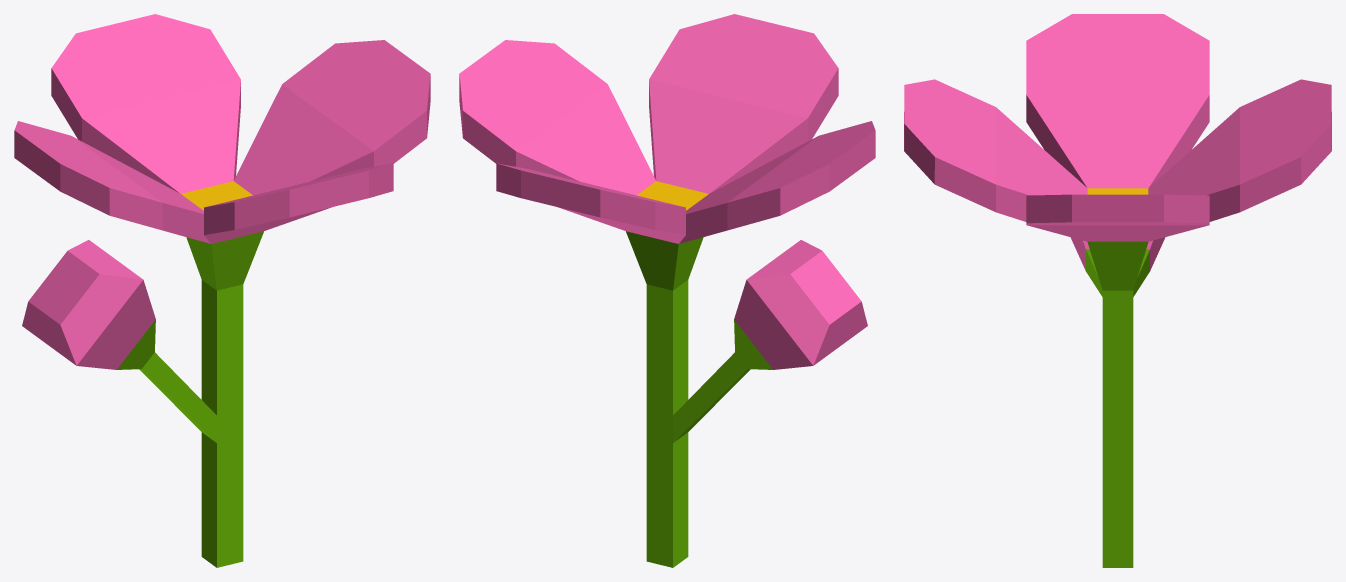
Rendered from Flower_02_Bloom.fbx.
3 renders of one model, left to right at view 1: azimuth 30°, elevation 25°; view 2: azimuth 150°, elevation 25°; view 3: azimuth 270°, elevation 25°, orthographic.
Parts seen in each view (by area): view 1: Flower_02_Bloom; view 2: Flower_02_Bloom; view 3: Flower_02_Bloom.
Part boxes in pixels (x1=…): Flower_02_Bloom: x1=14, y1=14, x2=430, y2=567; Flower_02_Bloom: x1=459, y1=14, x2=875, y2=567; Flower_02_Bloom: x1=904, y1=14, x2=1331, y2=567.
Size of the model in its own units: 27.96 by 32.98 by 27.96.
